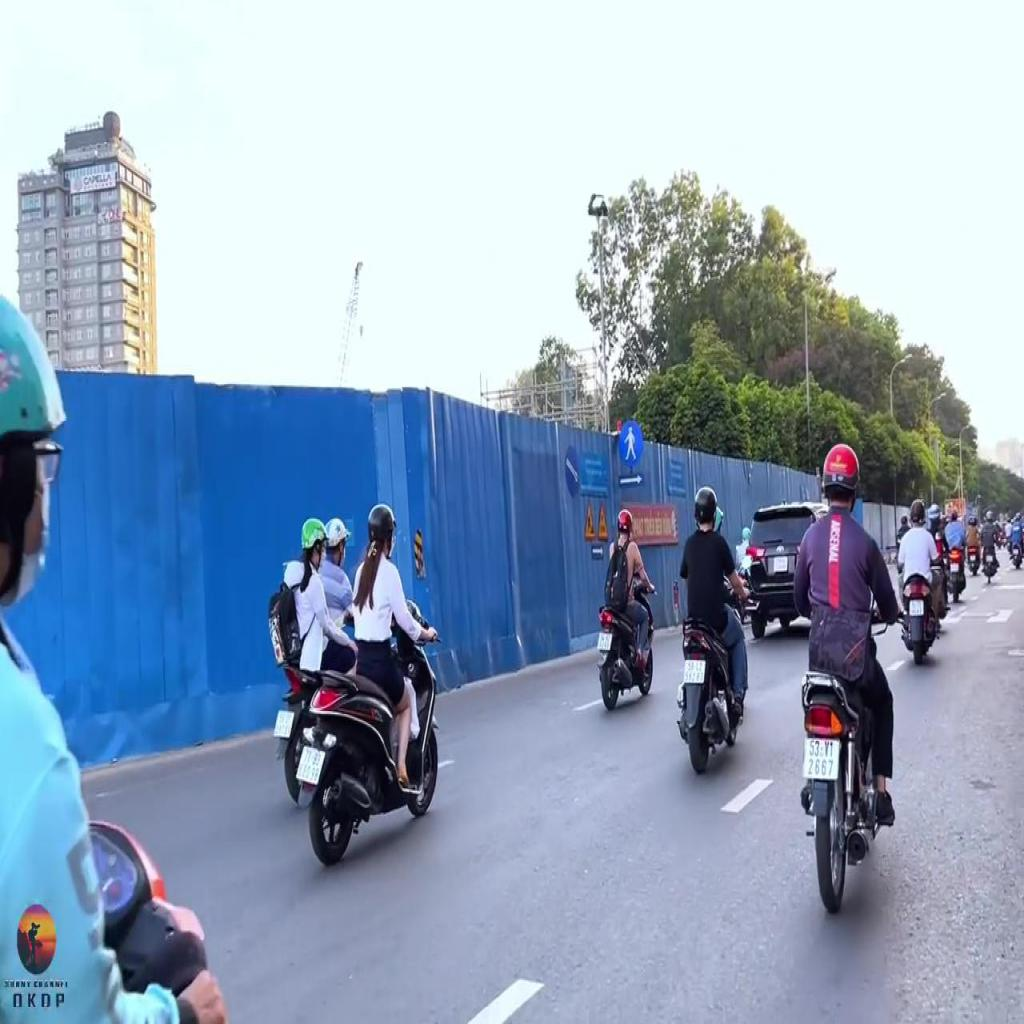cong_truong: (585, 500, 596, 540)
di_cham: (596, 499, 610, 538)
duong_cho_nguoi_di_bo: (618, 420, 643, 465)
duong_mot_chieu: (618, 472, 644, 488), (591, 545, 604, 560)
huong_phai_di_vuot_chuong_ngai_vat_phai: (565, 444, 580, 498)
